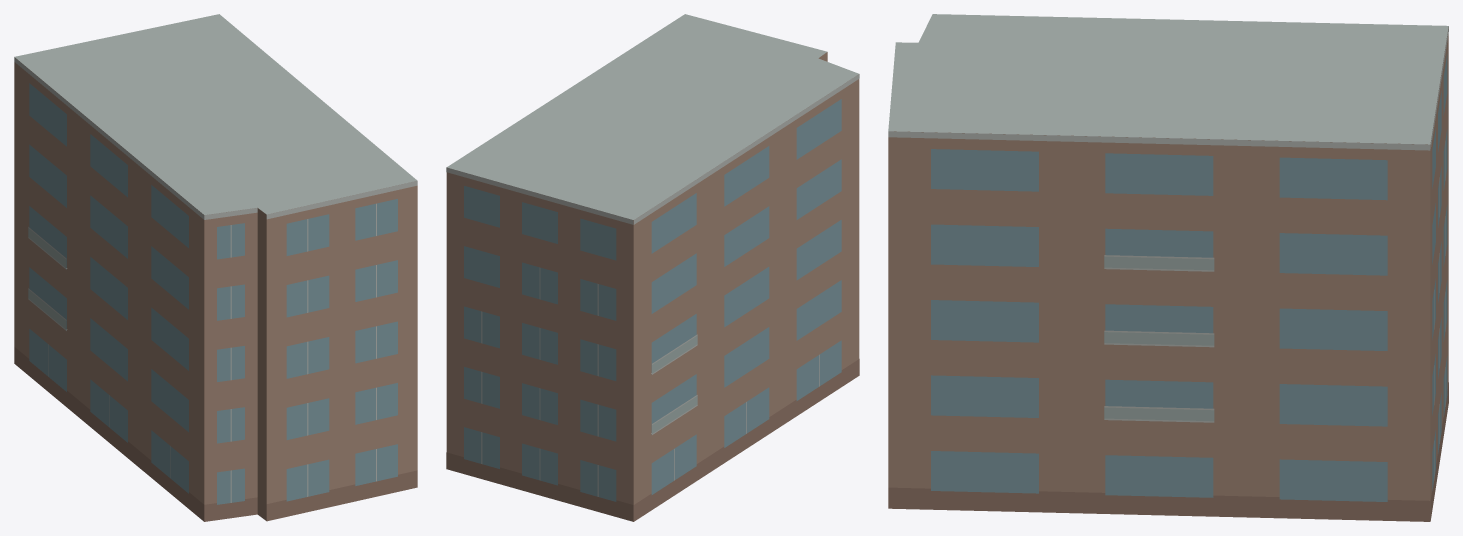
Rendered from survey-upis-32640973.glb.
The picture shows the model from 3 angles, left to right: view 1: azimuth 30°, elevation 25°; view 2: azimuth 150°, elevation 25°; view 3: azimuth 270°, elevation 25°; orthographic projection. The views are drawn at different scales.
Visible parts, largest first — view 1: survey-upis-32640973.tmp; view 2: survey-upis-32640973.tmp; view 3: survey-upis-32640973.tmp.
Boxes of the visible parts, x1,y1,x2,y2 form: survey-upis-32640973.tmp: (14, 14, 417, 521); survey-upis-32640973.tmp: (446, 14, 859, 521); survey-upis-32640973.tmp: (888, 14, 1448, 521).
Size of the model in its own units: 11.36 by 15.3 by 20.6.
